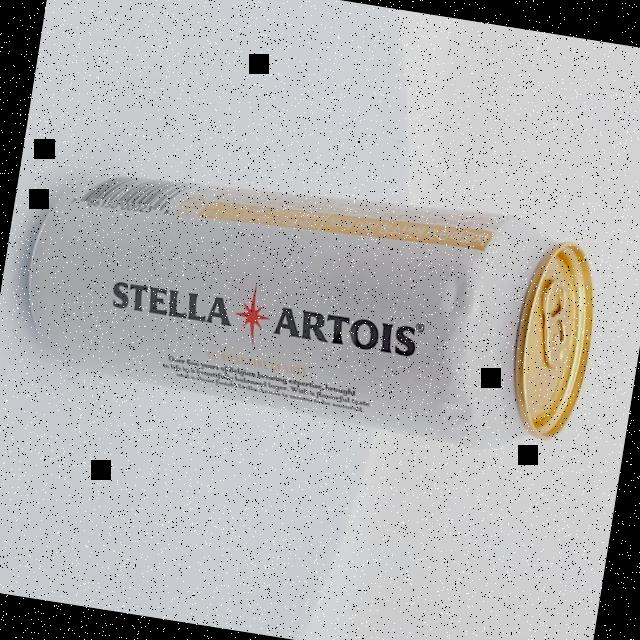can: (14, 140, 612, 462)
